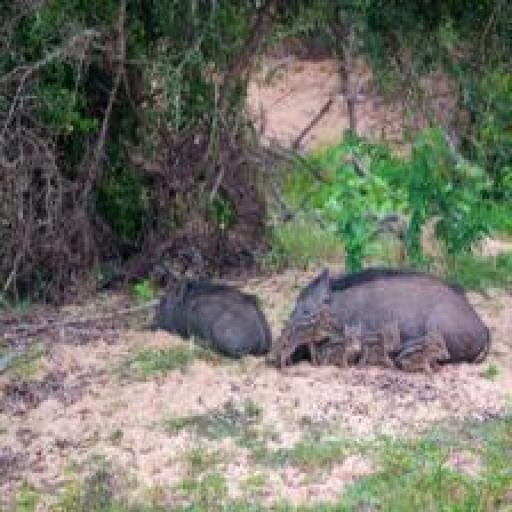Pig: (144, 258, 494, 408)
